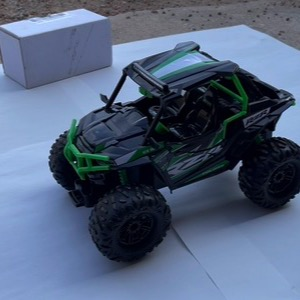polaris: (48, 40, 298, 267)
